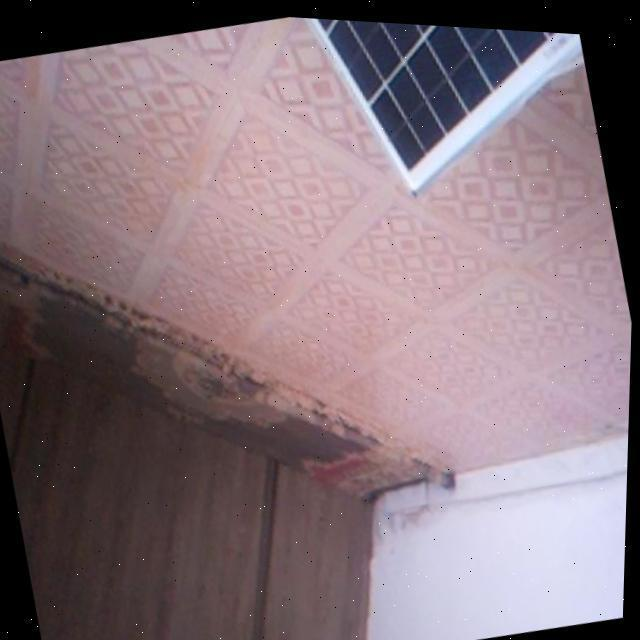Normal Solar Panel: (296, 14, 606, 214)
